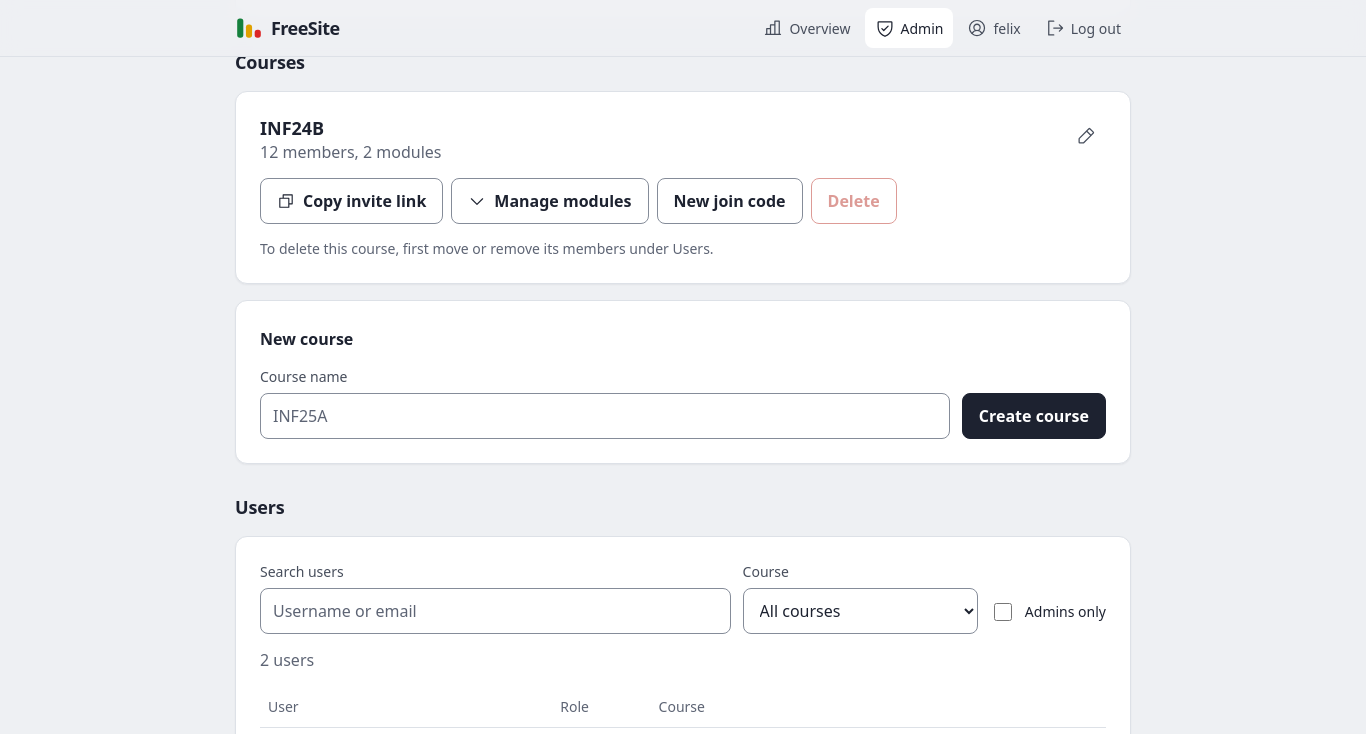
Test: AdminPage › explains a duplicate course name
(page scrolled)
Expected: the heading "INF24B" is shown, [260, 116, 324, 140]
Type "INF24B" into the field labelled "Course name".
click(605, 416); type("INF24B")  # box [260, 394, 950, 440]
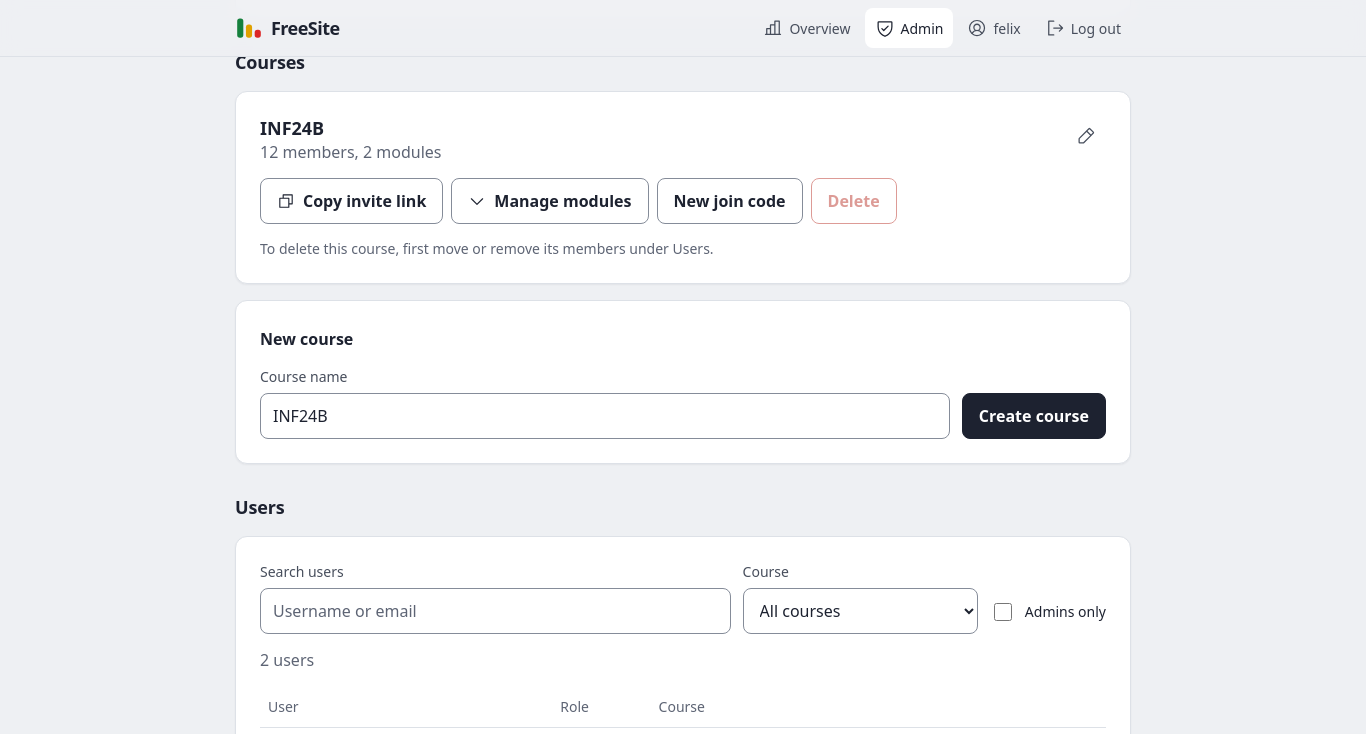
Click the button "Create course".
click(1034, 416)  # box [962, 394, 1106, 440]
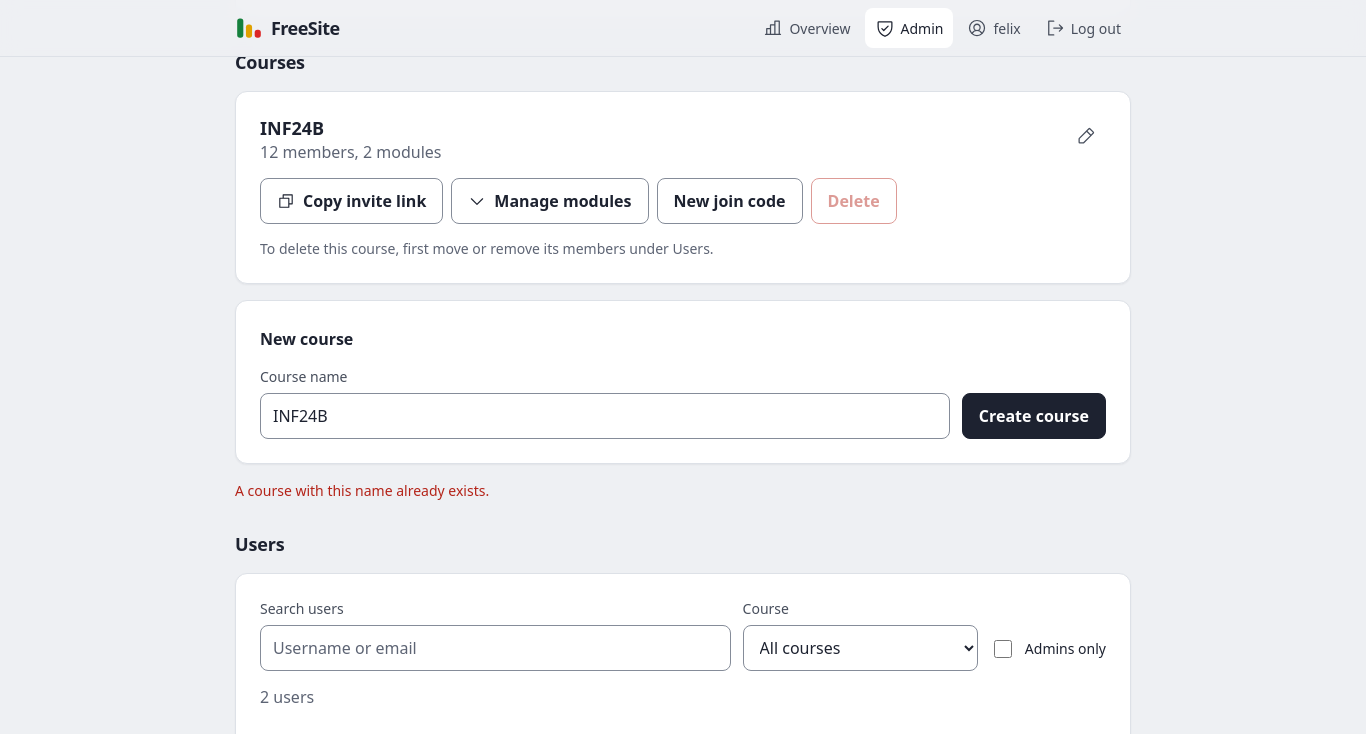
Now the message "A course with this name already exists." is shown, box [235, 482, 489, 500]
